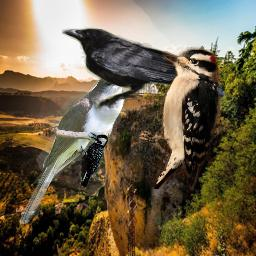Crow: (62, 27, 226, 111)
Cuckoo: (18, 73, 129, 225)
Woodpecker: (137, 45, 221, 189), (77, 132, 109, 187)
